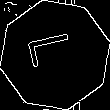L_E: (27, 34, 83, 76)
